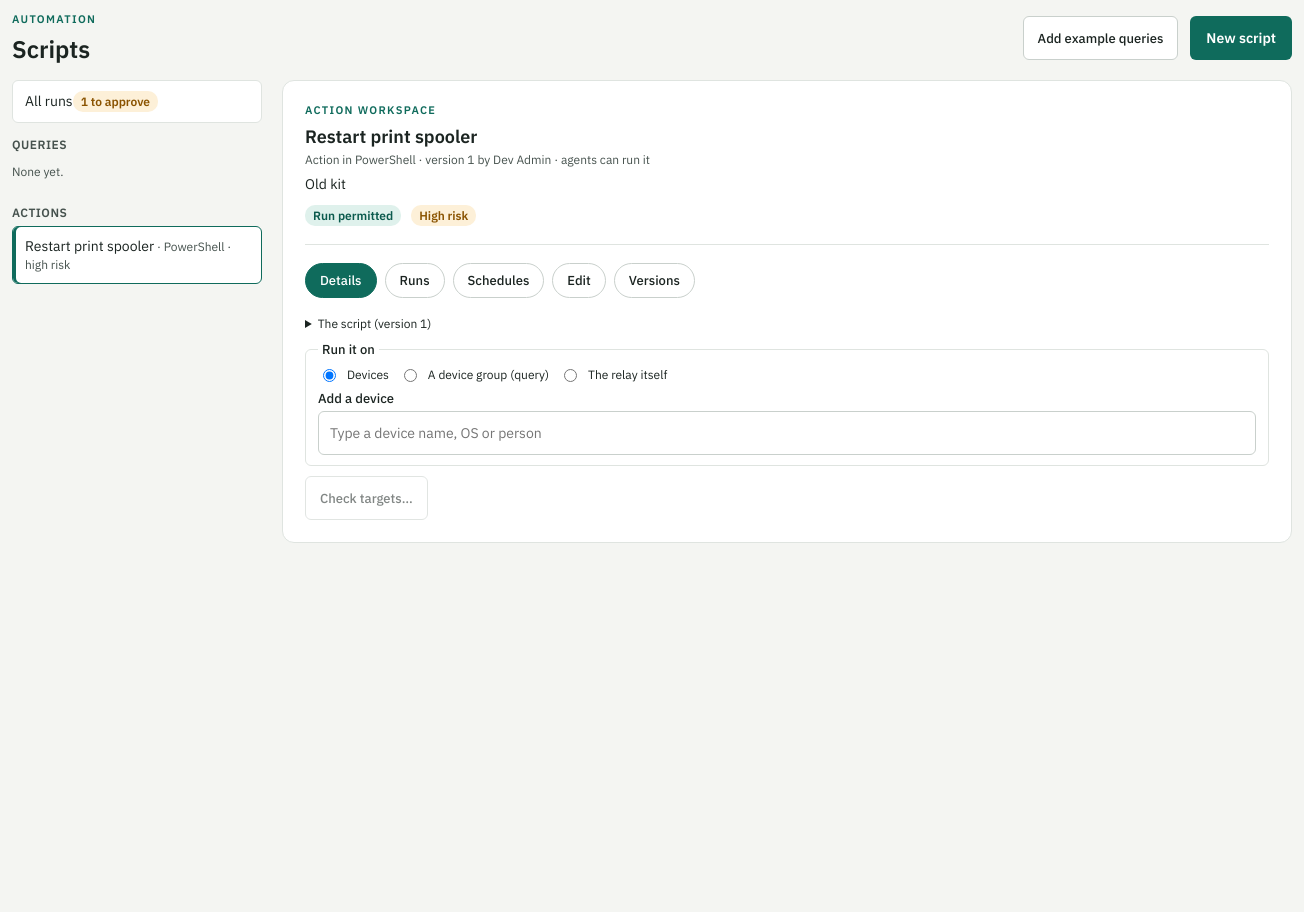
Test case: run an action on a device: check targets first, then it waits for approval; another admin approves
This screenshot has width=1304, height=912.
Type "ws-0" into the dropdown labelled "Add a device". click: (787, 433)
box: [318,411,1256,455]
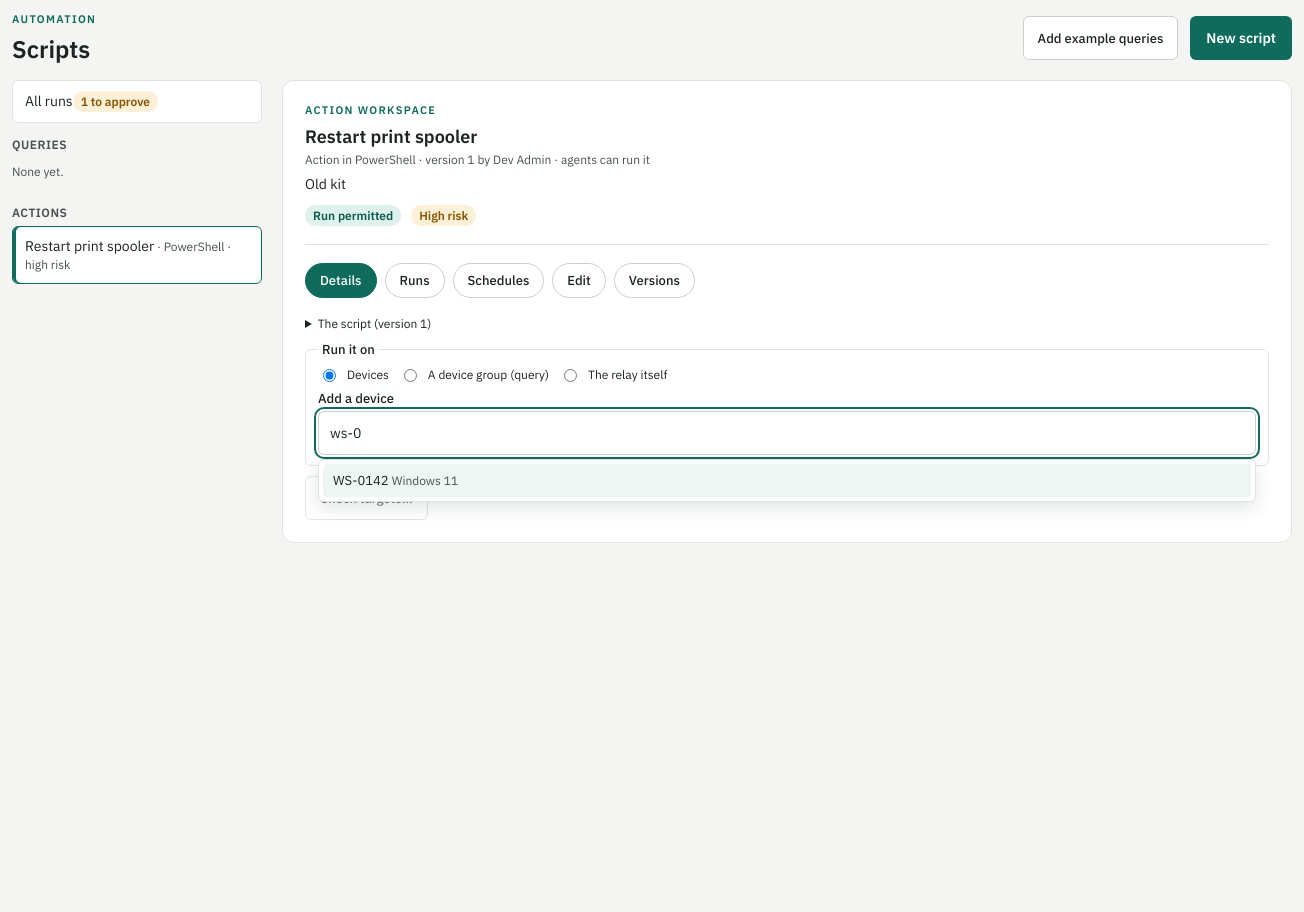
Click the option "WS-0142 Windows 11". click: (361, 480)
box: [323,464,1251,497]
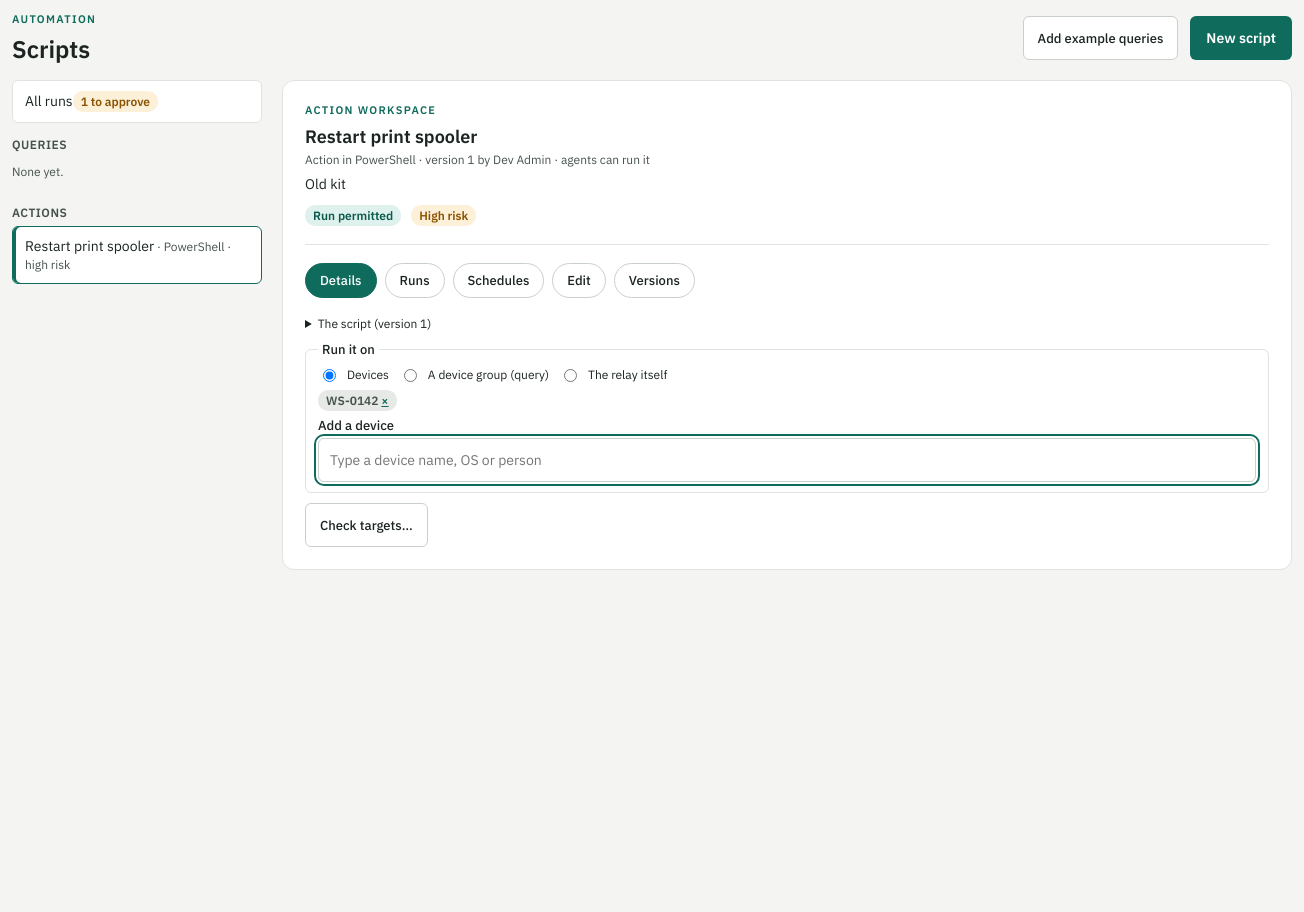
Click the button "Check targets…". click: (366, 525)
box: [305,503,428,547]
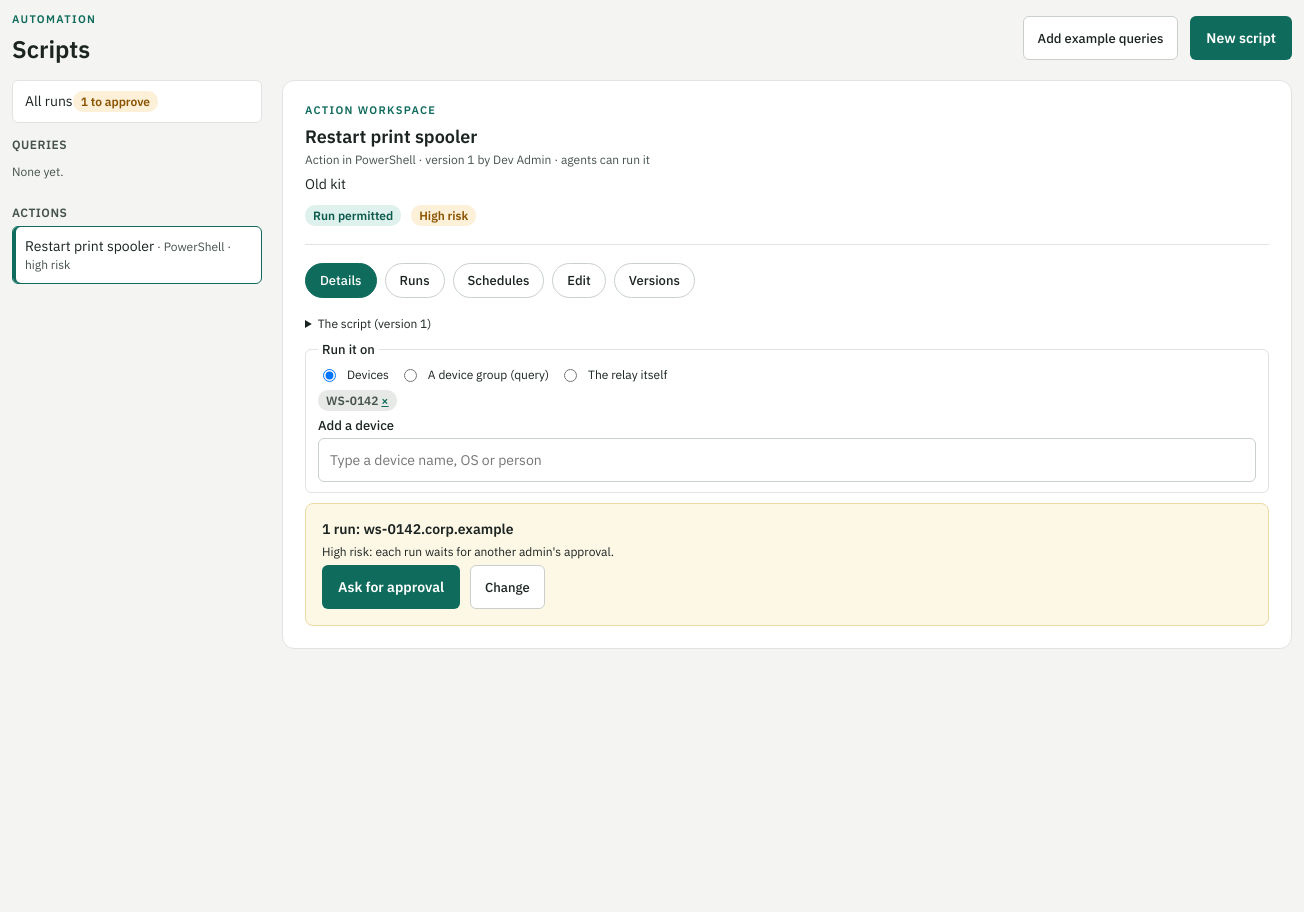
Expected: the text "1 run: ws-0142.corp.example" is shown, [322,520,514,538]
Expected: the text "High risk: each run waits for another admin's approval." is shown, [322,544,614,559]
Click the button "Ask for approval". click: (391, 587)
box: [322,565,460,609]
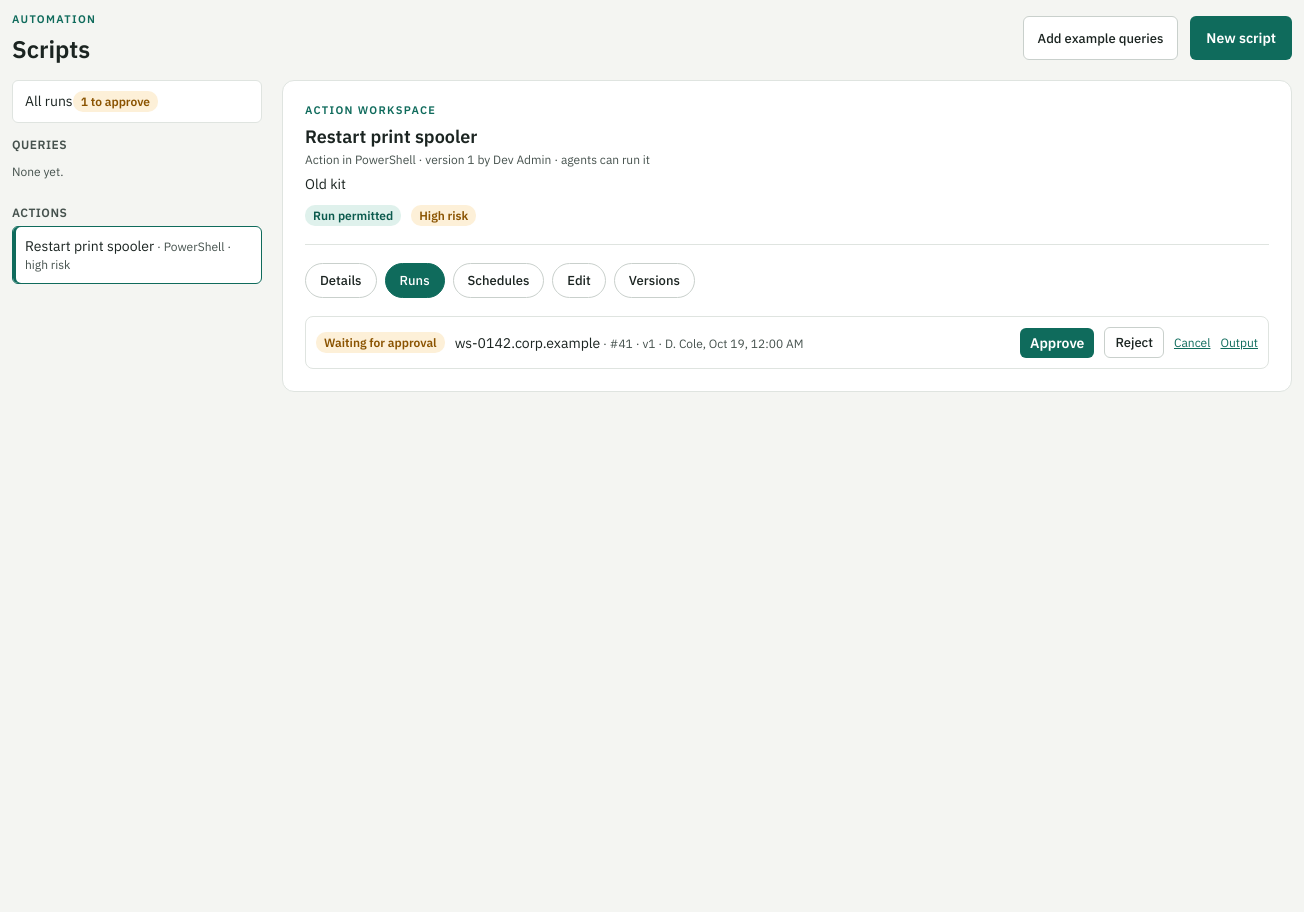
Expected: the text "Waiting for approval" is shown, [316,332,445,353]
Click the button "Approve". click: (1057, 342)
box: [1020,328,1094,358]
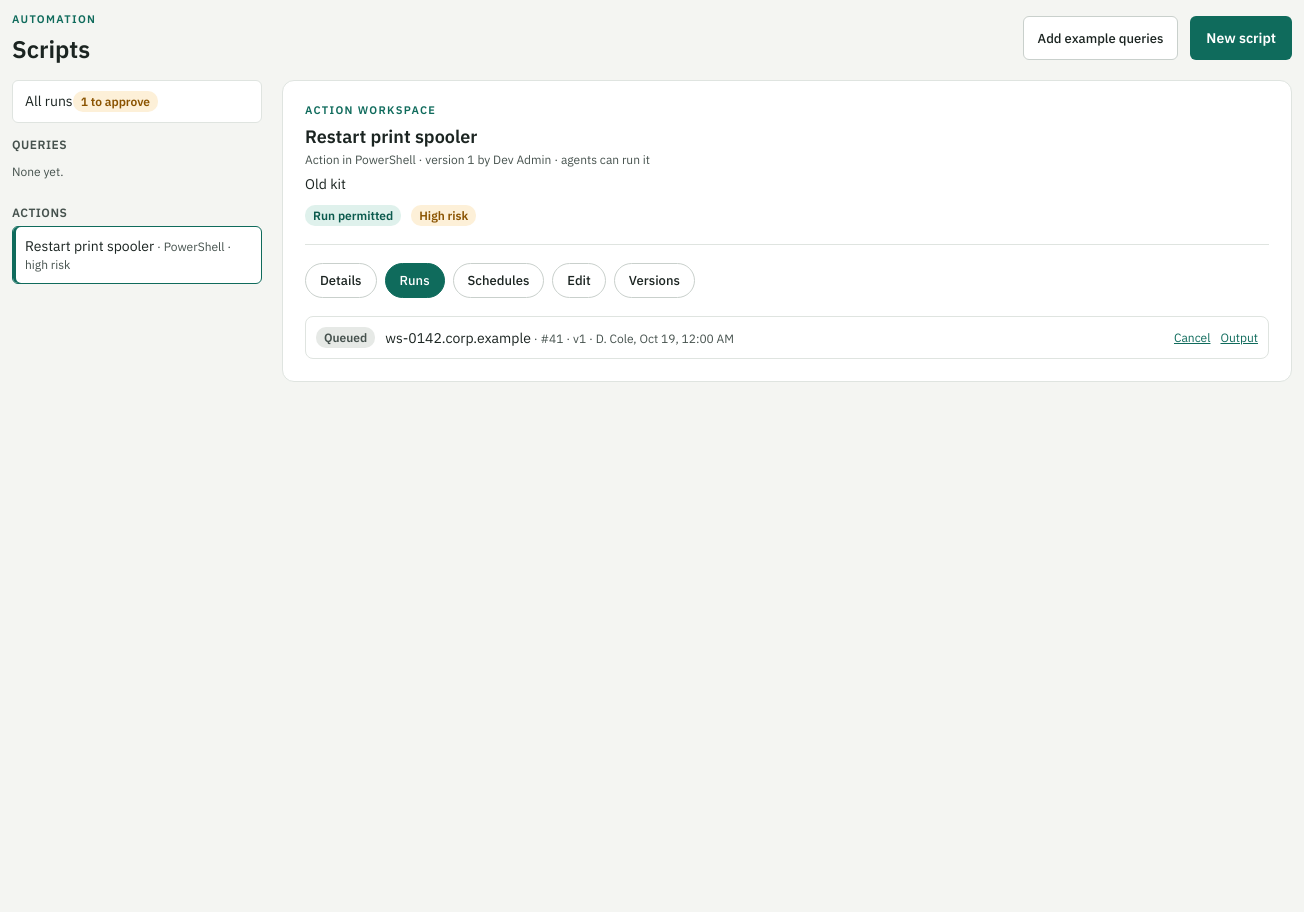
Expected: the text "Queued" is shown, [316,327,375,348]
